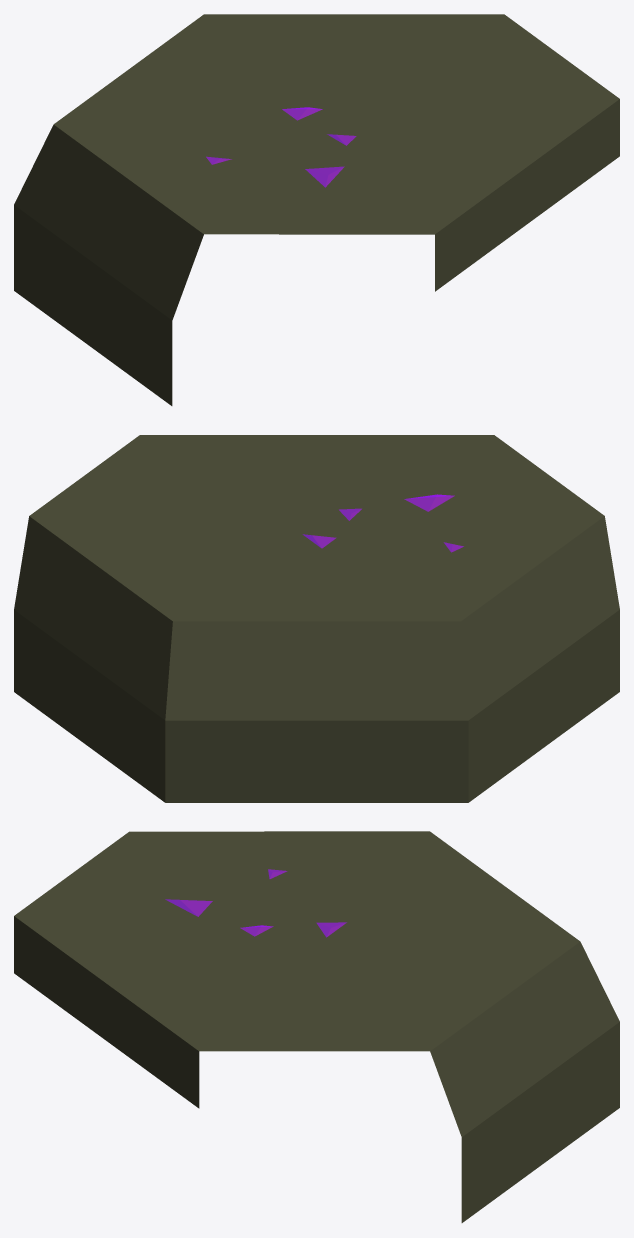
Rendered from nearpointUnit2(2).fbx.
3 views of the same model, one above another, from view 1: azimuth 30°, elevation 25°; view 2: azimuth 150°, elevation 25°; view 3: azimuth 270°, elevation 25° (orthographic). The views are drawn at different scales.
Visible parts, largest first — view 1: nearpointUnit2(2); view 2: nearpointUnit2(2); view 3: nearpointUnit2(2).
Part boxes in pixels (<box>): nearpointUnit2(2): <box>14,14,619,405</box>; nearpointUnit2(2): <box>14,435,619,802</box>; nearpointUnit2(2): <box>14,831,619,1222</box>.
Size of the model in its own units: 1.73 by 1.91 by 0.6157.
